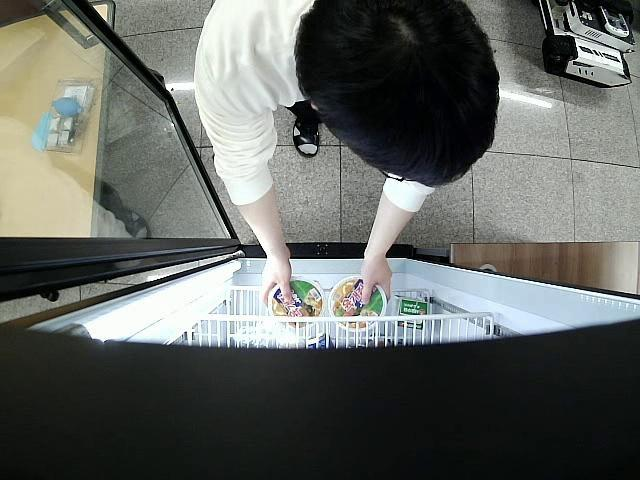09_yukGaeJang: (328, 274, 385, 330), (270, 276, 326, 327)
